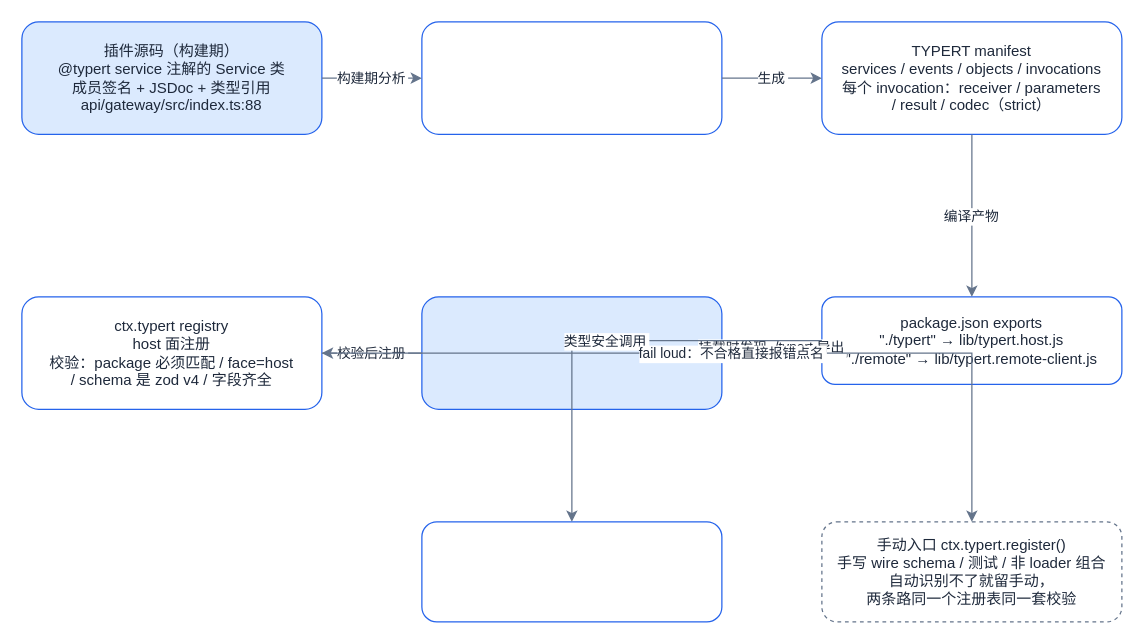
Some shapes in this 1144 by 644 pixel diagram are drawn without their labels. The shapes that lost their labels are listed below. From the top down, each one's centre as x and y in pixels, then its label:
[571,77]: analyzer.ts（3113 行） AST 分析：类声明 / 方法签名 / JSDoc / 仓库内类型解析 TS 类型系统 → 进程边界协议
[571,352]: typert-loader fiber 挂载时自动 import + 注册 卸载时撤回，跟着生命周期走 loader/src/index.ts:284
[571,571]: 调用方进程 remote-client 面 签名漂移构建期发现 不在运行时对不上字段才报错
